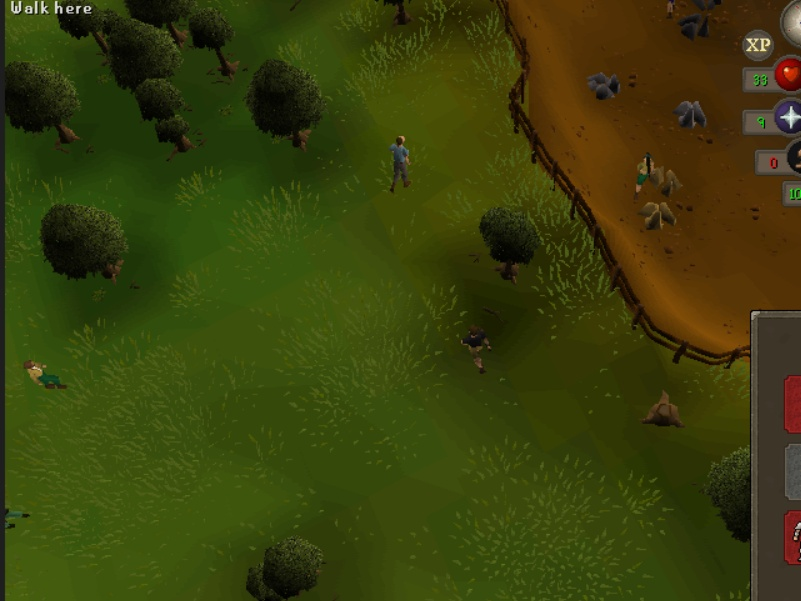clay: (641, 199, 682, 234), (646, 162, 687, 197)
tin: (670, 98, 711, 133), (583, 68, 624, 103)
